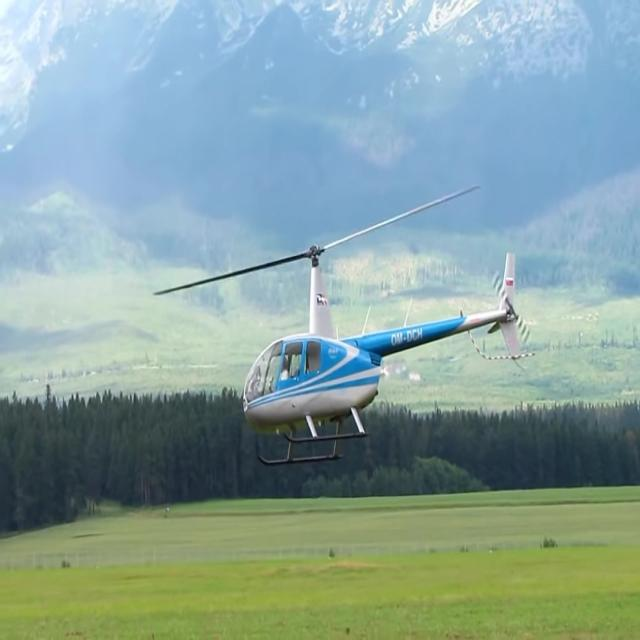CIV_HELO: (242, 241, 523, 465)
